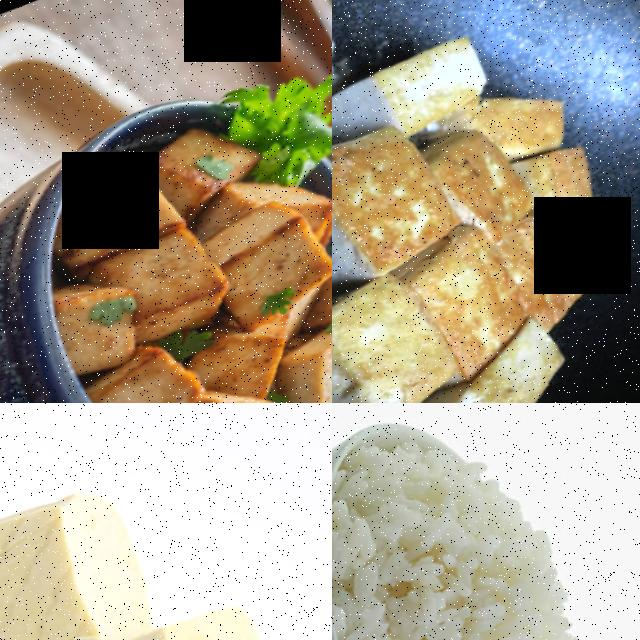tofu: (332, 100, 480, 316), (0, 467, 176, 640), (332, 18, 503, 149), (332, 260, 477, 403), (201, 181, 332, 330), (107, 213, 247, 345), (385, 328, 603, 403), (504, 127, 625, 252), (88, 332, 220, 403), (272, 311, 332, 403)
white rice: (332, 411, 633, 640)
